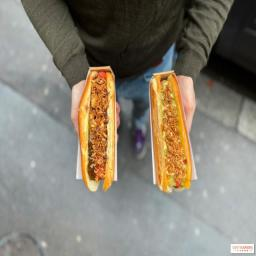hotdog: (152, 68, 196, 190), (82, 64, 116, 192)
